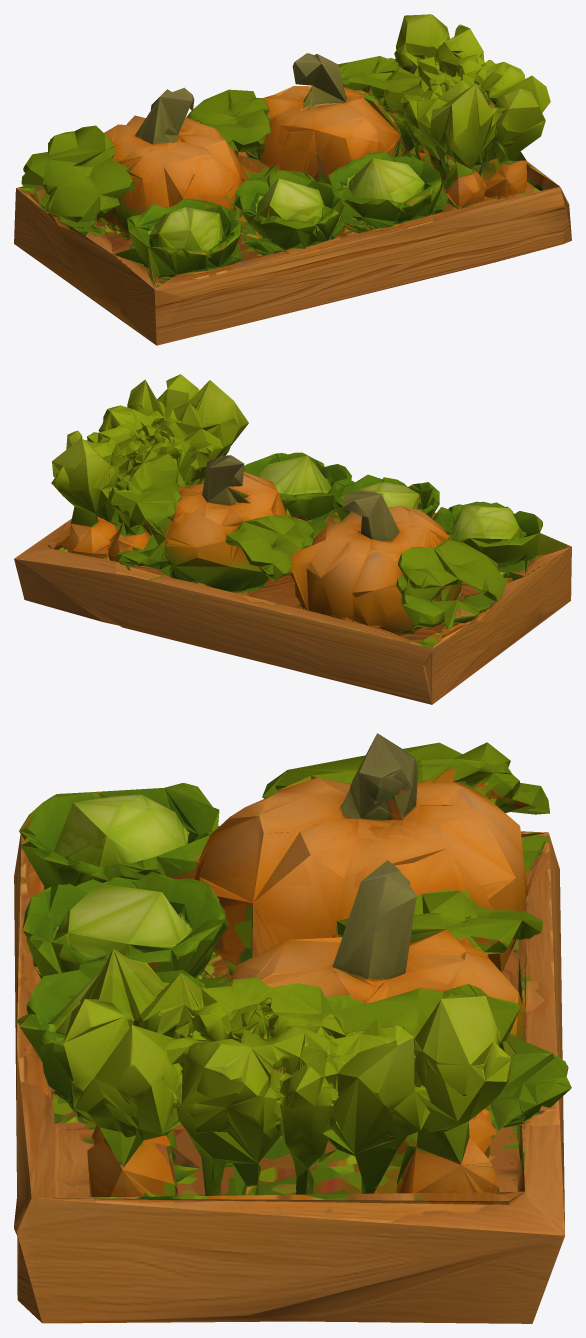
Rendered from ck_garden.glb.
The picture shows the model from 3 angles, top to bottom: view 1: azimuth 30°, elevation 25°; view 2: azimuth 150°, elevation 25°; view 3: azimuth 270°, elevation 25°; orthographic projection. The views are drawn at different scales.
Visible parts, largest first — view 1: ck_garden; view 2: ck_garden; view 3: ck_garden.
Boxes of the visible parts, x1,y1,x2,y2 form: ck_garden: (14, 14, 571, 345); ck_garden: (14, 374, 571, 704); ck_garden: (14, 733, 571, 1323).
Size of the model in its own units: 1.97 by 0.6966 by 1.15.
Materials: 1 (1 with a texture image).
